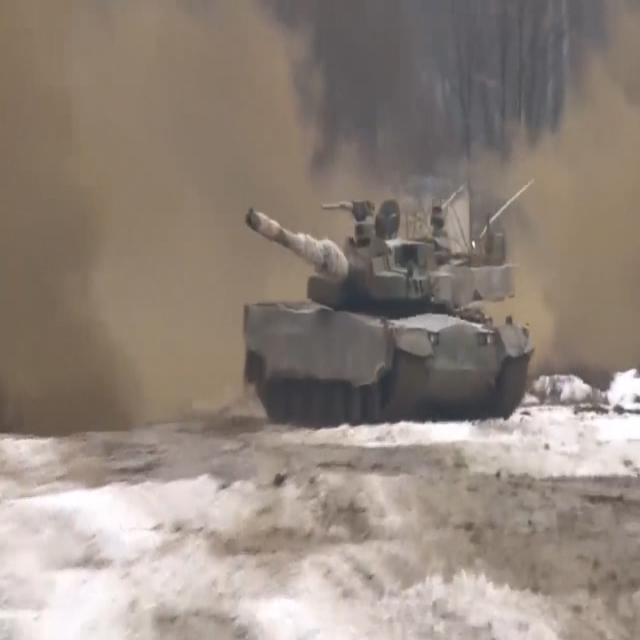korea tank: (243, 200, 537, 427)
